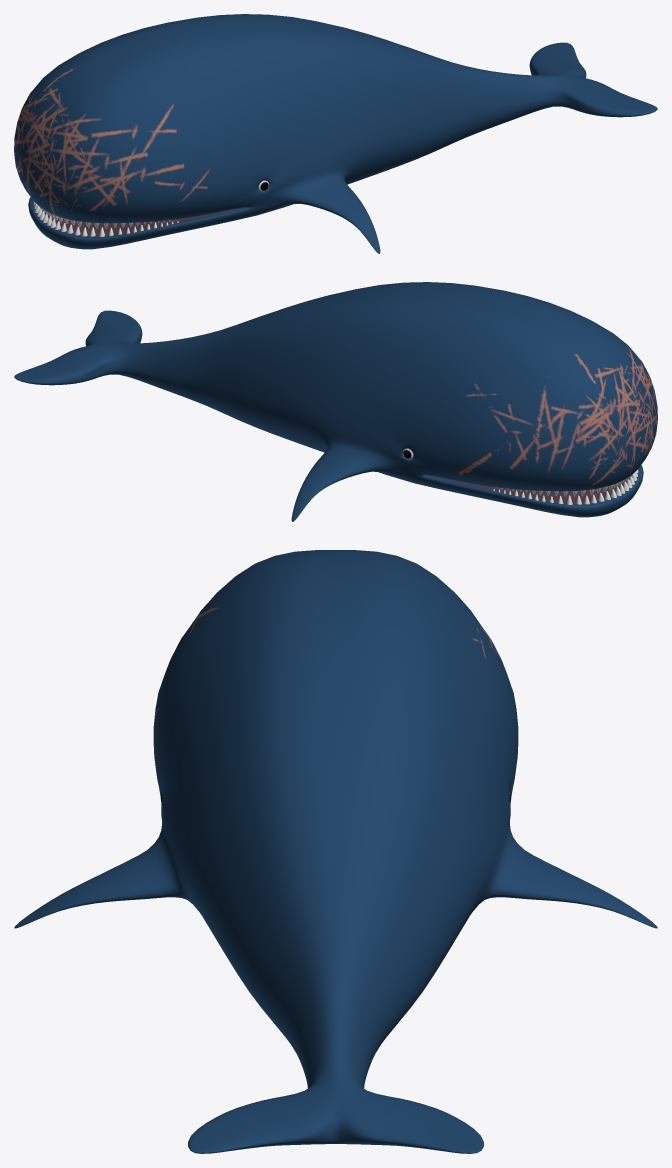
The model's file is Laboon_fbx.fbx.
The picture shows the model from 3 angles, top to bottom: view 1: azimuth 30°, elevation 25°; view 2: azimuth 150°, elevation 25°; view 3: azimuth 270°, elevation 25°; orthographic projection. The views are drawn at different scales.
Visible parts, largest first — view 1: Laboon; view 2: Laboon; view 3: Laboon.
Boxes of the visible parts, box(x1,y1,x2,y2) form: Laboon: box(14, 14, 657, 253); Laboon: box(14, 282, 657, 521); Laboon: box(14, 550, 657, 1153).
Bounding box in the file's own units: 112 × 32.58 × 68.96.
Materials: 1 (1 with a texture image).
